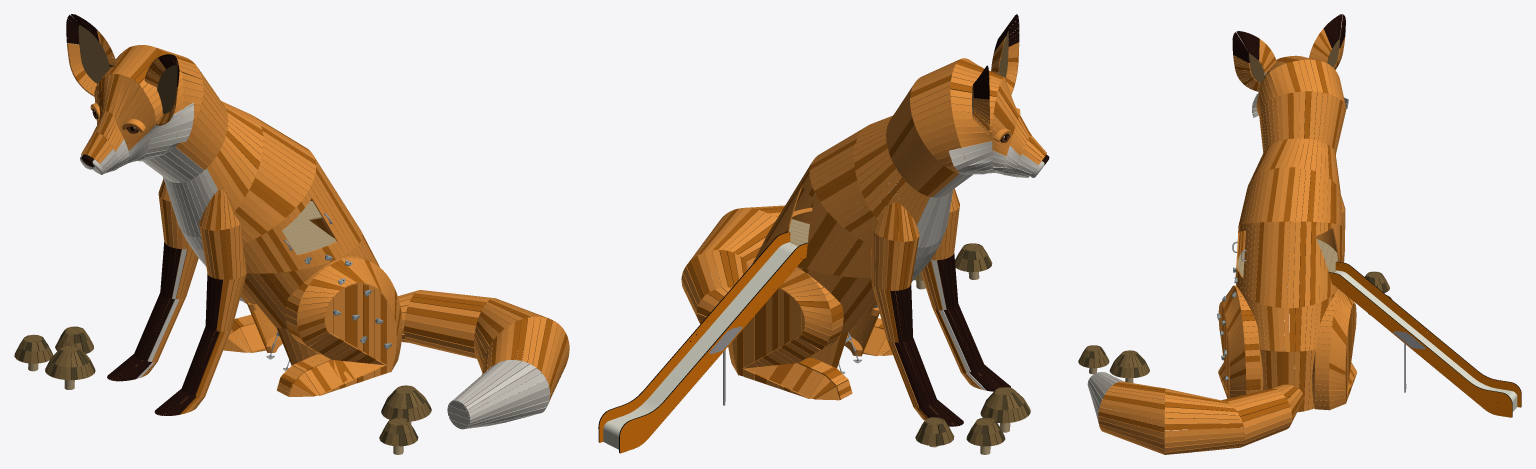
The model's file is rgss-51-p-rusty.glb.
3 renders of one model, left to right at view 1: azimuth 30°, elevation 25°; view 2: azimuth 150°, elevation 25°; view 3: azimuth 270°, elevation 25°, orthographic. The views are drawn at different scales.
Parts seen in each view (by area): view 1: Gövde1; view 2: Gövde1; view 3: Gövde1.
Part boxes in pixels (x1,y1,x2,y2): Gövde1: [14, 14, 569, 454]; Gövde1: [598, 14, 1049, 454]; Gövde1: [1078, 14, 1521, 454].
Size of the model in its own units: 6.68 by 5.61 by 7.63.
Materials: 1 (1 with a texture image).
